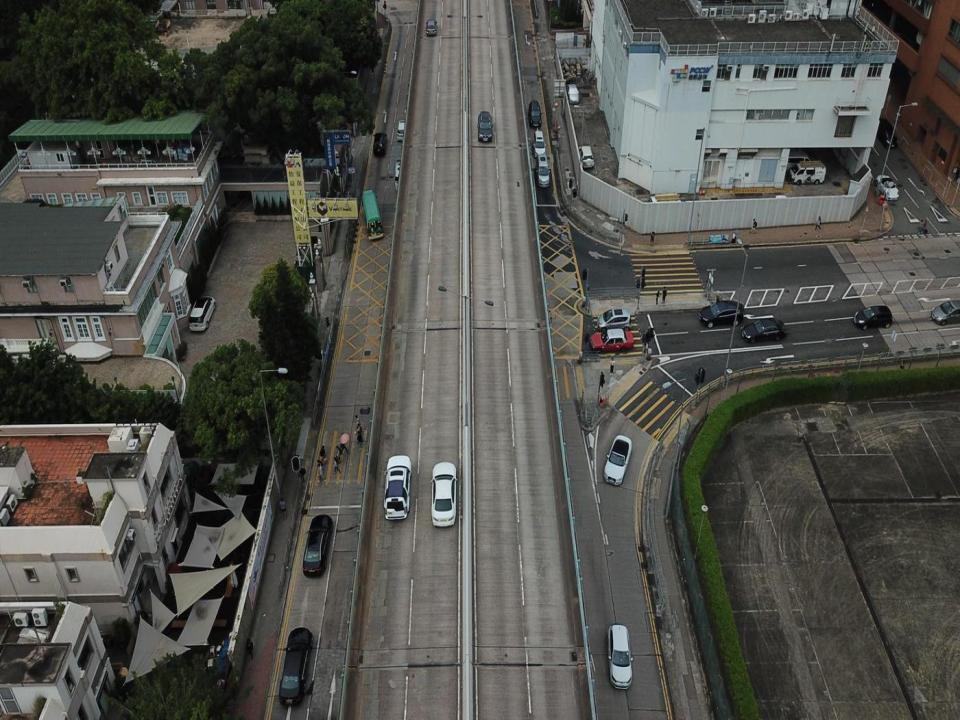bus: (360, 189, 383, 240)
car: (279, 628, 313, 704), (302, 514, 334, 578), (384, 455, 412, 520), (607, 623, 633, 690), (431, 463, 457, 526), (604, 435, 633, 485), (698, 301, 744, 328), (741, 318, 787, 344), (590, 328, 633, 353), (853, 305, 892, 331), (189, 297, 216, 331), (596, 308, 631, 332), (931, 301, 960, 325), (876, 119, 898, 147), (875, 175, 899, 200), (567, 83, 580, 104), (426, 19, 437, 36)
van: (788, 160, 826, 185), (783, 150, 815, 174), (534, 154, 550, 187), (477, 110, 493, 140), (394, 161, 408, 190), (578, 145, 594, 169), (528, 100, 542, 127), (533, 130, 546, 159), (373, 132, 387, 156), (396, 120, 410, 142)
